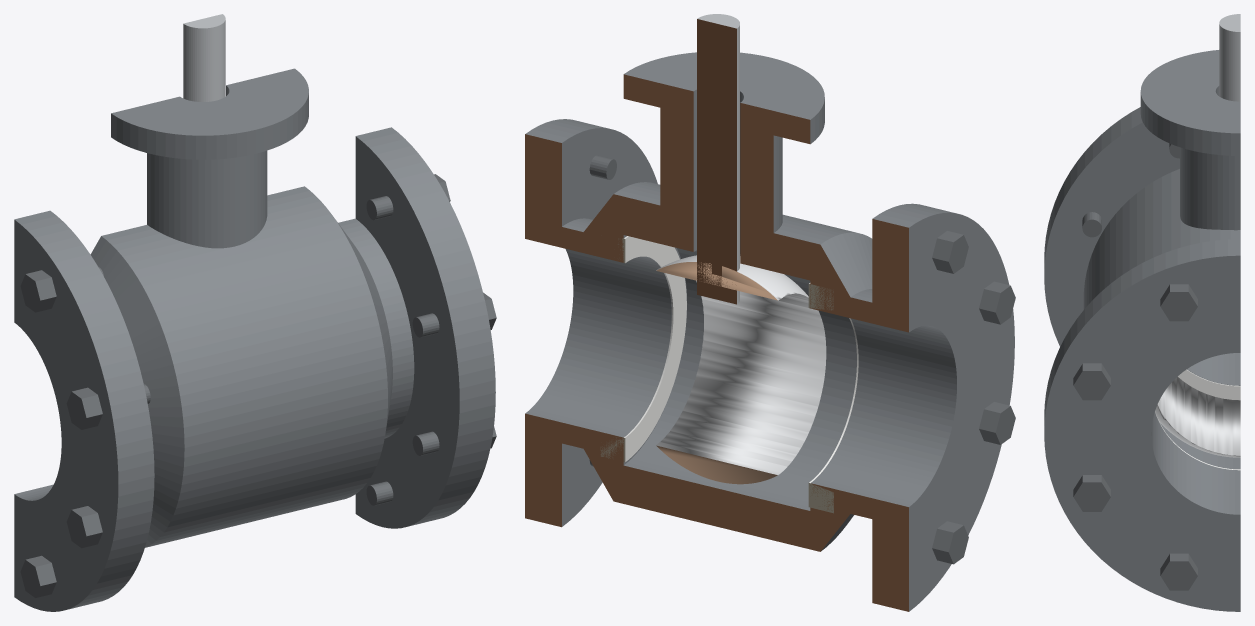
File: valve-section.glb
The picture shows the model from 3 angles, left to right: view 1: azimuth 30°, elevation 25°; view 2: azimuth 150°, elevation 25°; view 3: azimuth 270°, elevation 25°; orthographic projection. The views are drawn at different scales.
Visible parts, largest first — view 1: body, neck, neckfl, stem, head.003, head.004, head.005, head.002; view 2: body, ball, neck, stem, neckfl, seat.001, seat, head.003, head.004, head.002, head.005; view 3: body, neck, neckfl, ball, stem, head.010, head.011, head.013, head.012, seat, stud.003.
Part boxes in pixels (x1,y1,x2,y2): body: (14,127,495,611); neck: (147,77,267,248); neckfl: (111,68,308,159); stem: (183,14,225,101); head.003: (66,387,102,429); head.004: (66,506,102,548); head.005: (20,555,56,597); head.002: (20,270,56,312); body: (525,119,1014,611); ball: (656,255,826,484); neck: (660,71,782,246); stem: (697,14,739,304); neckfl: (623,52,824,144); seat.001: (600,236,686,462); seat: (808,283,858,513); head.003: (979,281,1015,324); head.004: (979,402,1015,444); head.002: (932,231,968,273); head.005: (932,521,968,564); body: (1044,107,1240,611); neck: (1180,67,1240,230); neckfl: (1140,50,1240,155); ball: (1155,376,1240,457); stem: (1219,14,1240,101); head.010: (1160,284,1197,321); head.011: (1073,363,1110,400); head.013: (1160,553,1197,590); head.012: (1073,475,1110,511); seat: (1178,369,1240,400); stud.003: (1082,212,1101,237).
Size of the model in its own units: 0.25 by 0.31 by 0.11.
